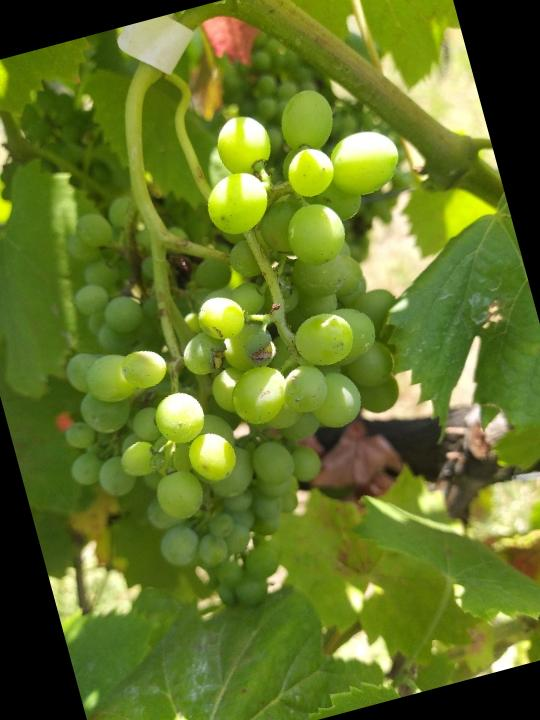grape: (0, 71, 505, 644)
